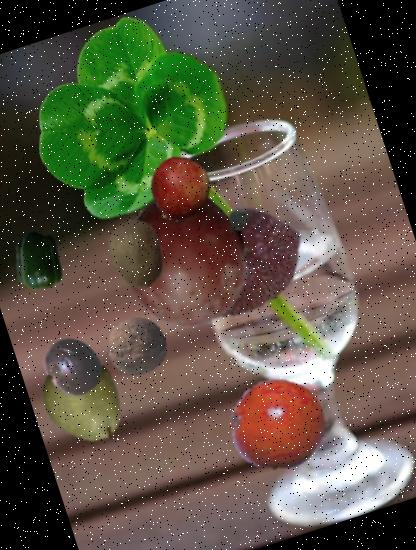Grape: (100, 172, 273, 345)
Kiwi: (93, 210, 180, 297)
Nectarine: (140, 148, 221, 229)
Passion: (34, 326, 112, 405)
Pear: (26, 340, 146, 460)
Pepper: (3, 224, 76, 297)
Pomegranate: (216, 360, 344, 490)
Strawberry: (152, 175, 322, 346)
Walnut: (98, 308, 174, 385)
